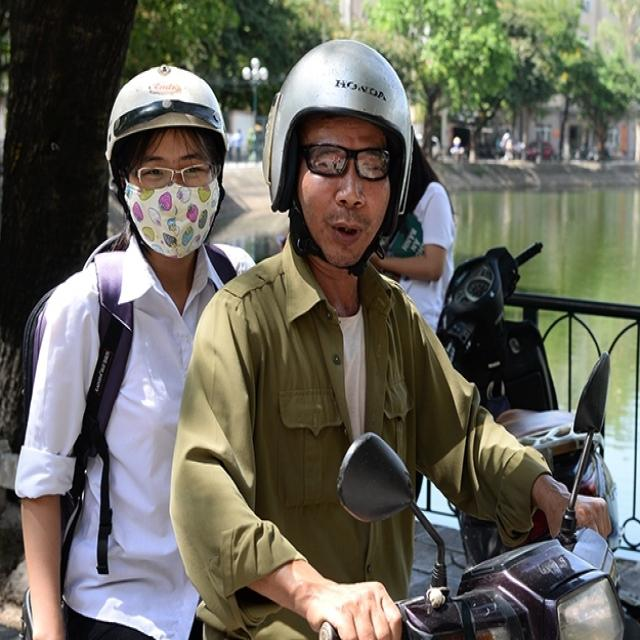1-2-helmet: (106, 64, 228, 164)
3-4-helmet: (262, 38, 414, 236)
